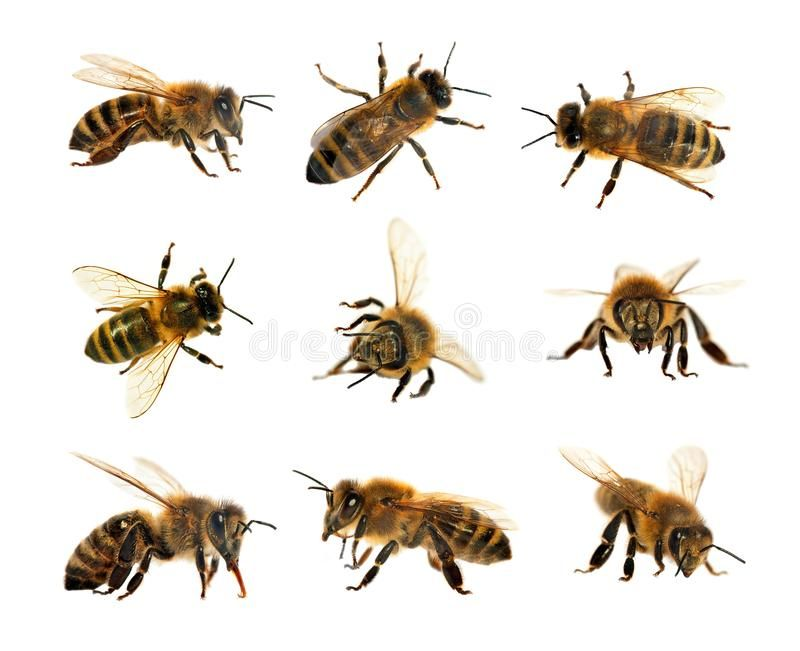bee: (507, 57, 764, 228), (40, 439, 282, 611), (48, 15, 285, 190), (56, 228, 259, 424), (546, 430, 774, 600), (311, 220, 501, 423), (287, 451, 528, 610), (293, 24, 497, 206), (522, 247, 766, 389)
